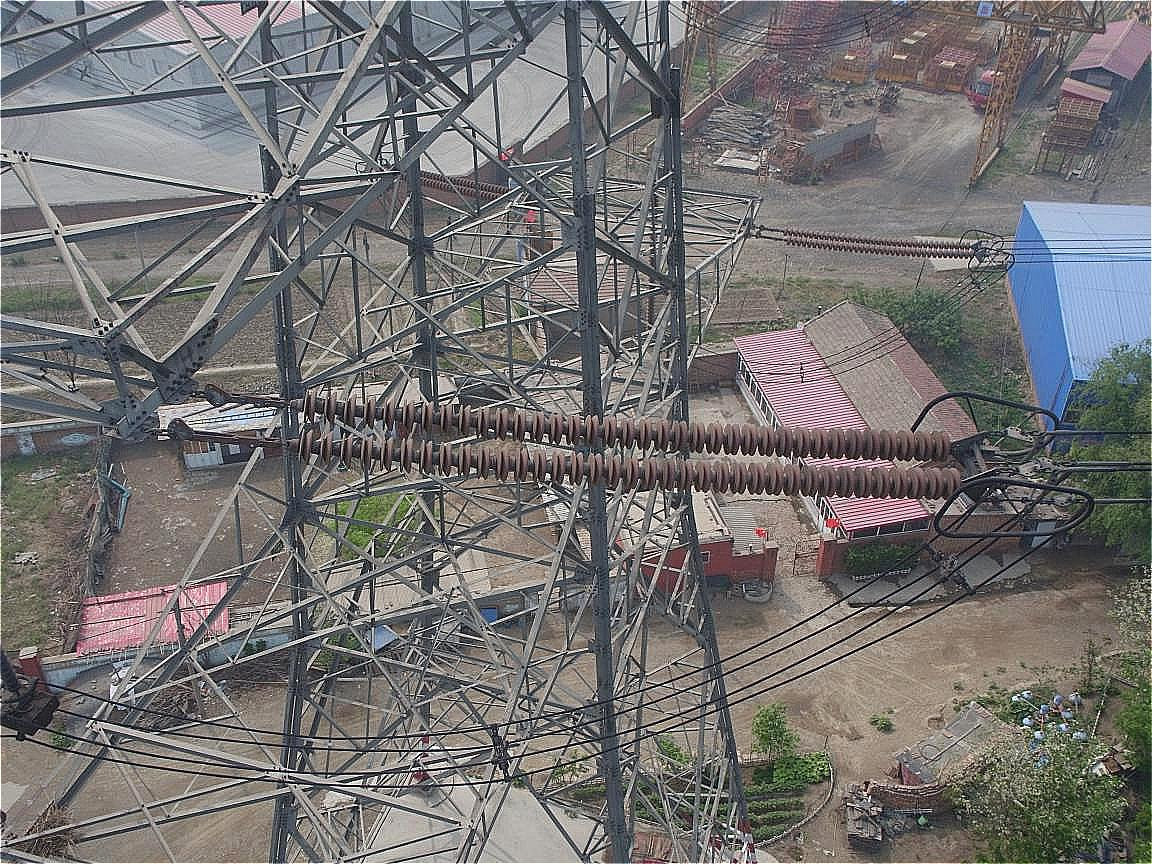insultor2: (217, 383, 986, 507)
